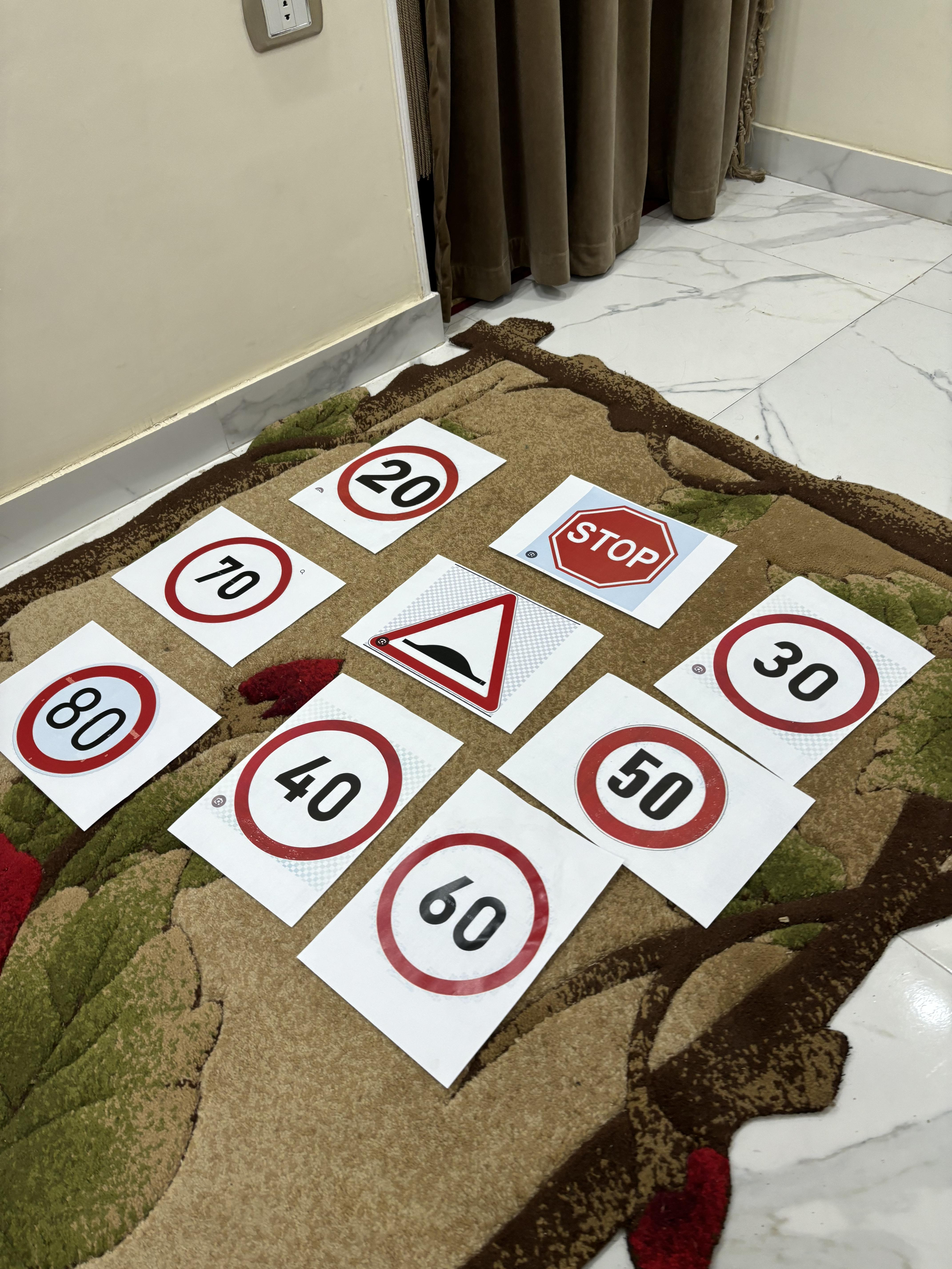20-Speed: (337, 440, 465, 529)
30-speed: (714, 605, 889, 737)
40-Speed: (230, 718, 403, 860)
50-Speed: (573, 730, 725, 849)
60-Speed: (370, 831, 569, 1000)
70-Speed: (162, 529, 300, 630)
80-Speed: (13, 660, 160, 780)
Stop: (545, 500, 678, 596)
